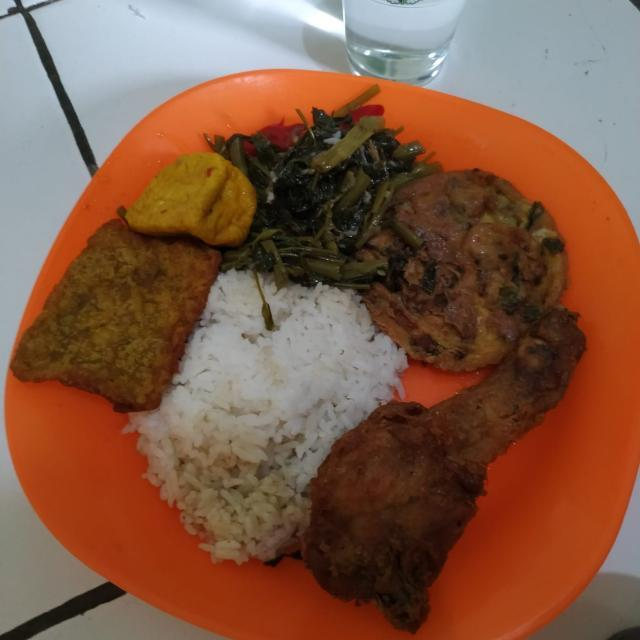ayam_goreng: (299, 290, 592, 620)
telur_ayam_dadar: (346, 134, 560, 370)
